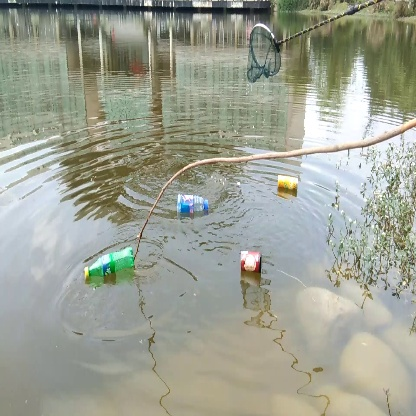bottle: (83, 247, 141, 284), (174, 190, 213, 217), (235, 249, 266, 278), (275, 172, 302, 197)
